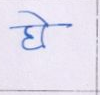e_matra: (17, 10, 51, 24)
